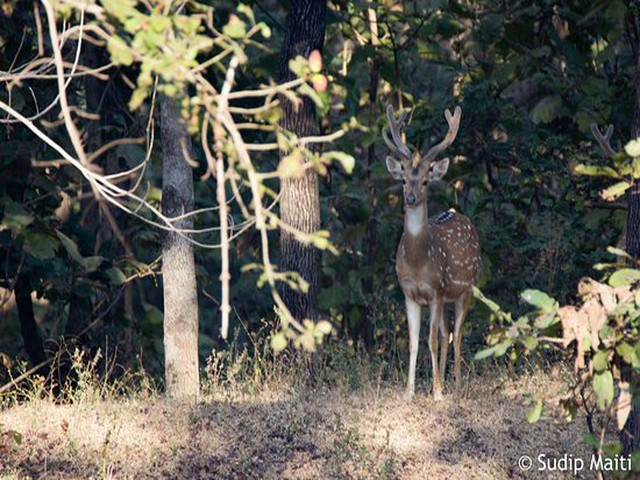deer: (376, 83, 491, 405)
